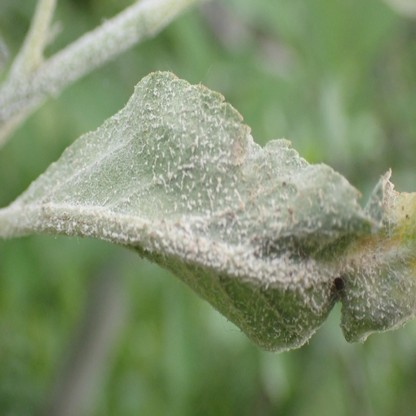powdery_mildew: (13, 68, 414, 350)
